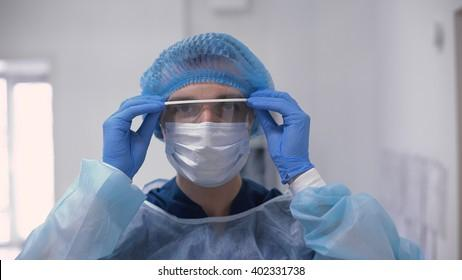gloves: (246, 89, 315, 183), (101, 93, 166, 179)
